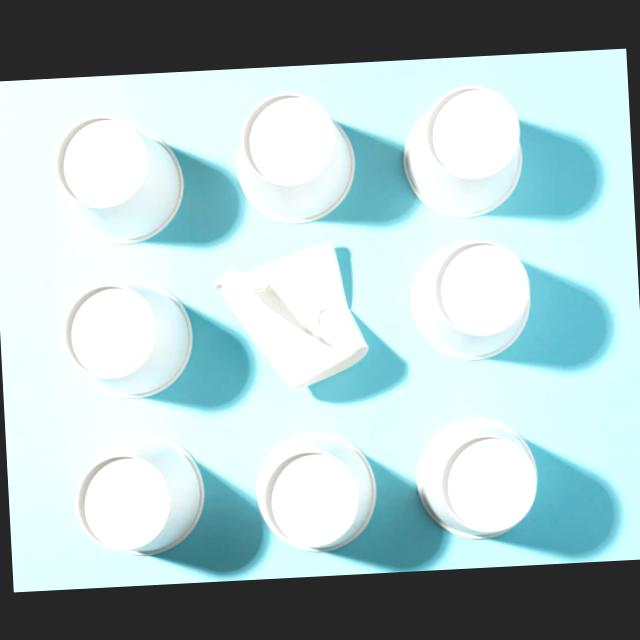trash: (212, 242, 374, 398), (51, 112, 190, 249), (400, 79, 528, 220), (232, 87, 362, 225), (73, 428, 207, 560), (62, 277, 200, 403), (252, 426, 378, 559), (412, 416, 542, 544), (408, 236, 532, 362)
